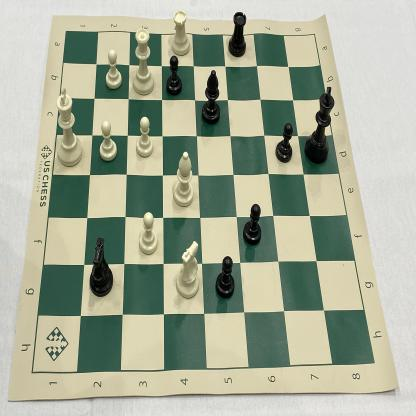black-bishop: (198, 66, 223, 127)
black-king: (303, 84, 337, 168)
black-pawn: (241, 199, 264, 249), (214, 253, 237, 301), (275, 121, 295, 168), (164, 53, 185, 97)
black-rook: (226, 7, 250, 61)
white-bishop: (171, 146, 196, 211)
white-king: (52, 82, 84, 169)
white-knight: (87, 234, 116, 301), (174, 237, 203, 301)
white-pawn: (137, 206, 160, 258), (95, 119, 120, 165), (134, 114, 156, 162), (103, 47, 124, 93)
white-queen: (132, 25, 156, 99)
white-rook: (169, 6, 192, 59)
